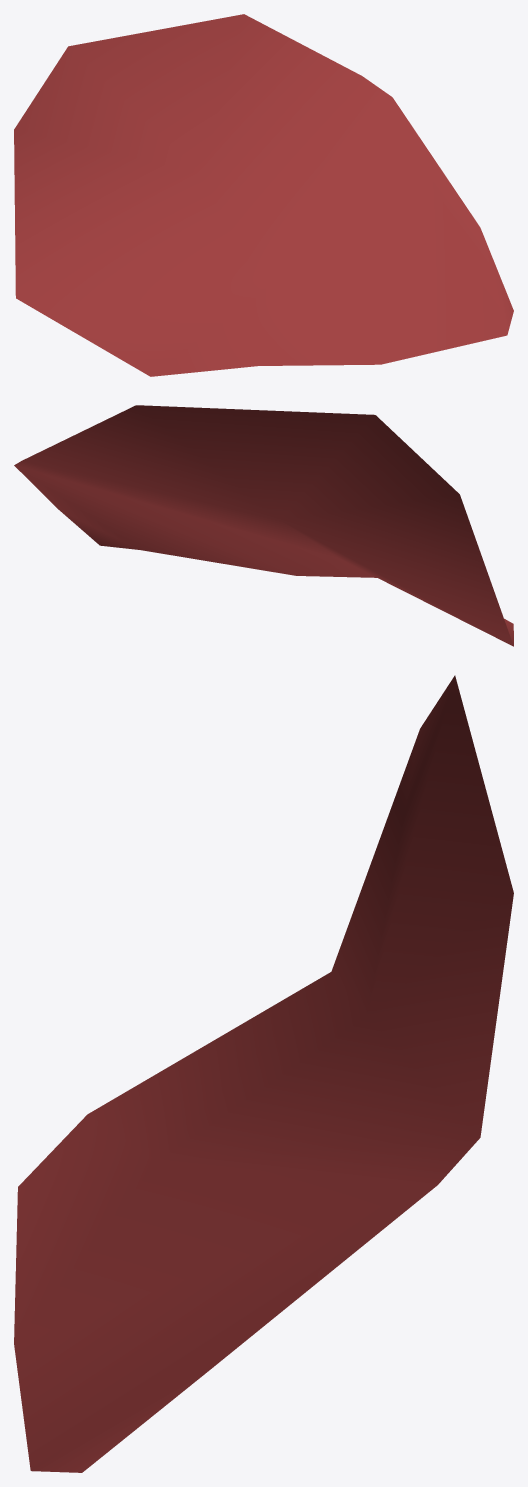
The model's file is obliquus-inferior-capitis-muscle-or.glb.
The picture shows the model from 3 angles, top to bottom: view 1: azimuth 30°, elevation 25°; view 2: azimuth 150°, elevation 25°; view 3: azimuth 270°, elevation 25°; orthographic projection. The views are drawn at different scales.
Parts seen in each view (by area): view 1: Obliquus inferior capitis muscle.or; view 2: Obliquus inferior capitis muscle.or; view 3: Obliquus inferior capitis muscle.or.
Part boxes in pixels (x1,y1,x2,y2): Obliquus inferior capitis muscle.or: [14, 14, 513, 376]; Obliquus inferior capitis muscle.or: [14, 405, 513, 646]; Obliquus inferior capitis muscle.or: [14, 675, 513, 1472].
Bounding box in the file's own units: 0.0055 × 0.00344 × 0.00305.
